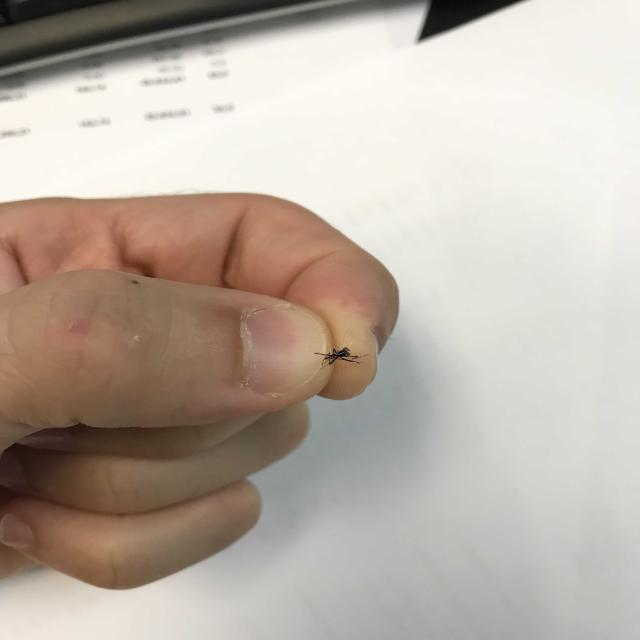albopictus: (302, 333, 368, 375)
